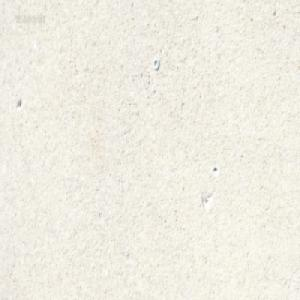Washer: (152, 57, 158, 69)
